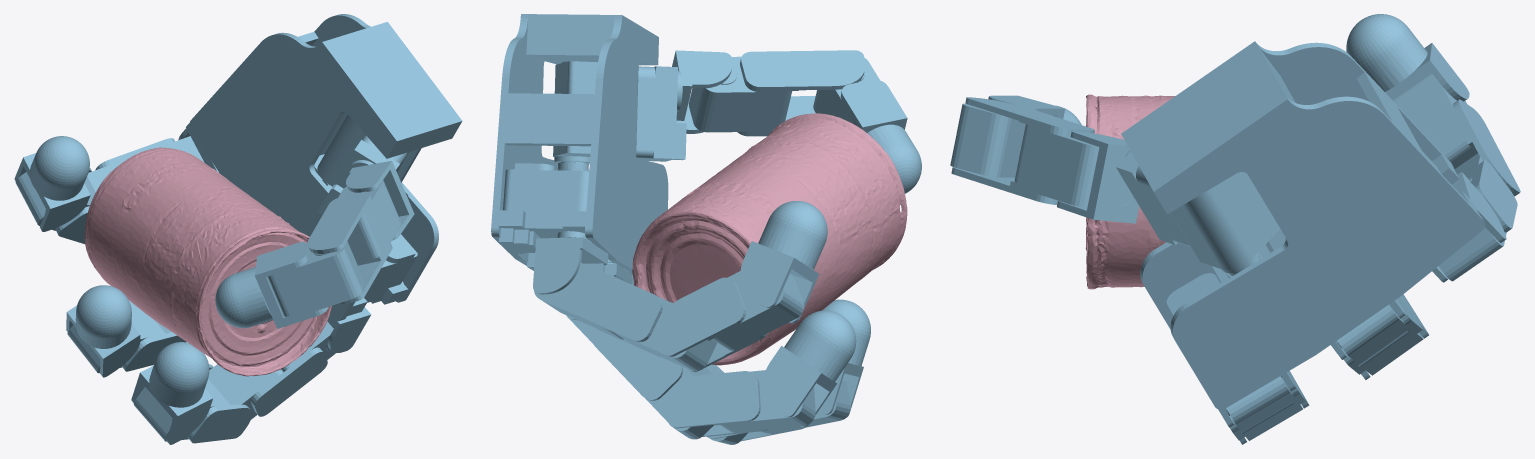
3 views of the same model, side by side, from view 1: azimuth 30°, elevation 25°; view 2: azimuth 150°, elevation 25°; view 3: azimuth 270°, elevation 25° (orthographic). The views are drawn at different scales.
Visible parts, largest first — view 1: world; view 2: world; view 3: world.
Part boxes in pixels (<box>): world: <box>14,14,462,444</box>; world: <box>491,14,921,444</box>; world: <box>950,14,1520,444</box>.
Bounding box in the file's own units: 0.1649 × 0.1751 × 0.1976.
